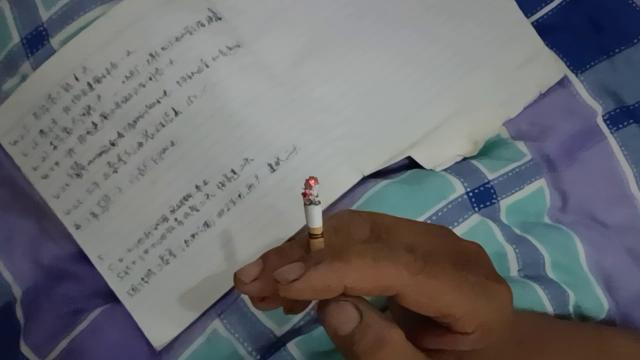Cigarette: (302, 176, 326, 262)
